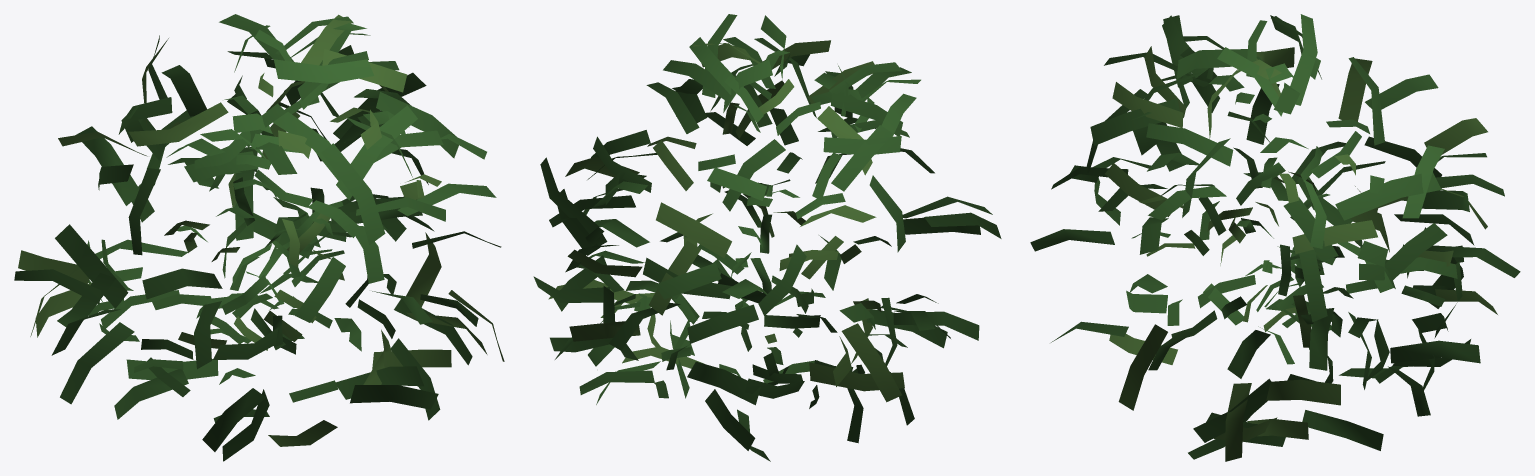
File: arbusto_redondo_2_longe.glb
3 views of the same model, side by side, from view 1: azimuth 30°, elevation 25°; view 2: azimuth 150°, elevation 25°; view 3: azimuth 270°, elevation 25° (orthographic). The views are drawn at different scales.
Parts seen in each view (by area): view 1: arbusto_redondo_2_longe; view 2: arbusto_redondo_2_longe; view 3: arbusto_redondo_2_longe.
Boxes of the visible parts, x1,y1,x2,y2 form: arbusto_redondo_2_longe: [14, 14, 504, 461]; arbusto_redondo_2_longe: [533, 14, 1001, 461]; arbusto_redondo_2_longe: [1030, 14, 1520, 461].
Size of the model in its own units: 0.7099 by 0.6237 by 0.7157.
